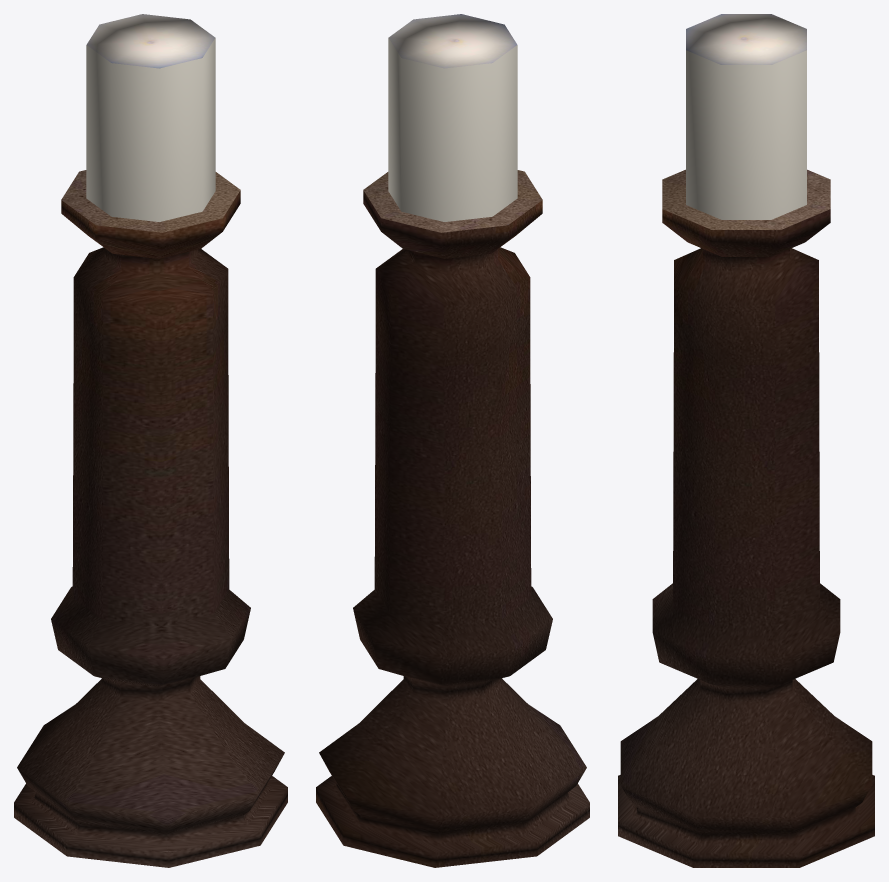
The picture shows the model from 3 angles, left to right: view 1: azimuth 30°, elevation 25°; view 2: azimuth 150°, elevation 25°; view 3: azimuth 270°, elevation 25°; orthographic projection.
Parts seen in each view (by area): view 1: pCylinder11; view 2: pCylinder11; view 3: pCylinder11.
Part boxes in pixels (left/top/right/bottom): pCylinder11: left=14, top=14, right=287, bottom=867; pCylinder11: left=316, top=14, right=589, bottom=867; pCylinder11: left=618, top=14, right=874, bottom=867.
Size of the model in its own units: 0.1888 by 0.6274 by 0.1888.
1 material, 1 textured.
